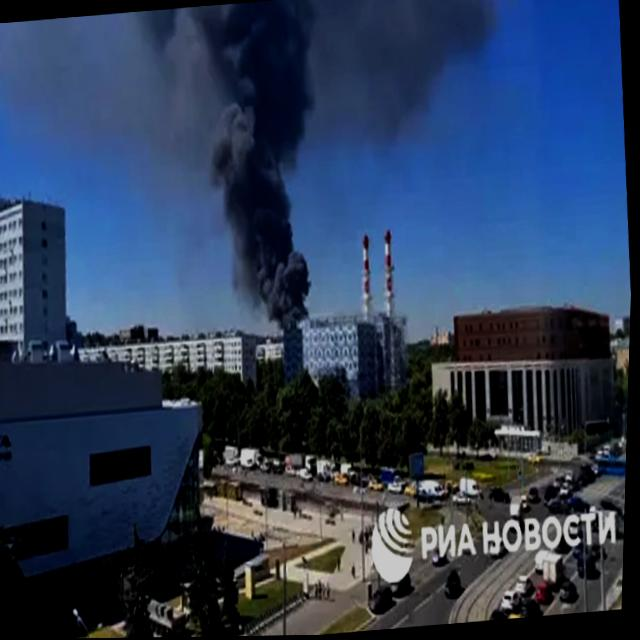no_helmet: (117, 0, 370, 343)
